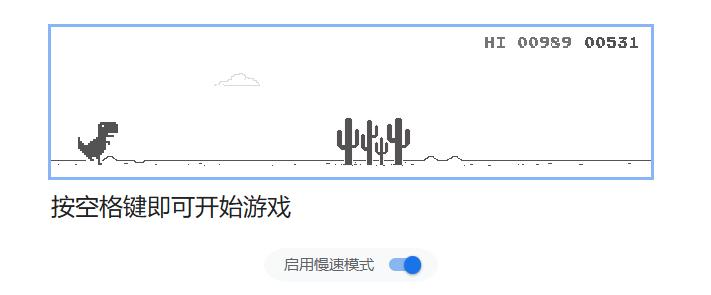cactus: (336, 117, 412, 167)
dino: (76, 120, 120, 168)
